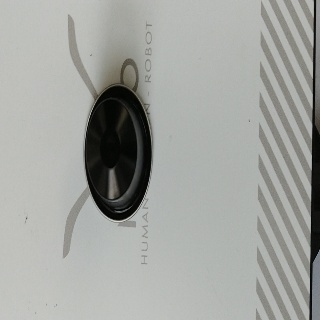capsule_10: (82, 82, 153, 223)
